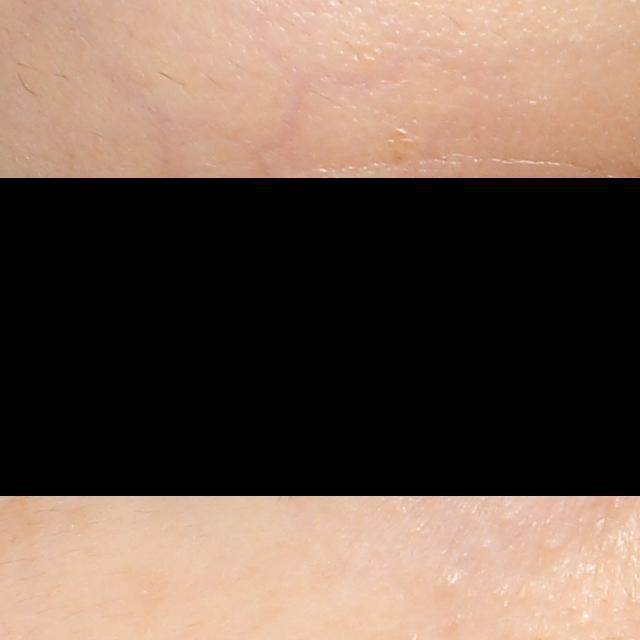comedo: (439, 569, 463, 593)
